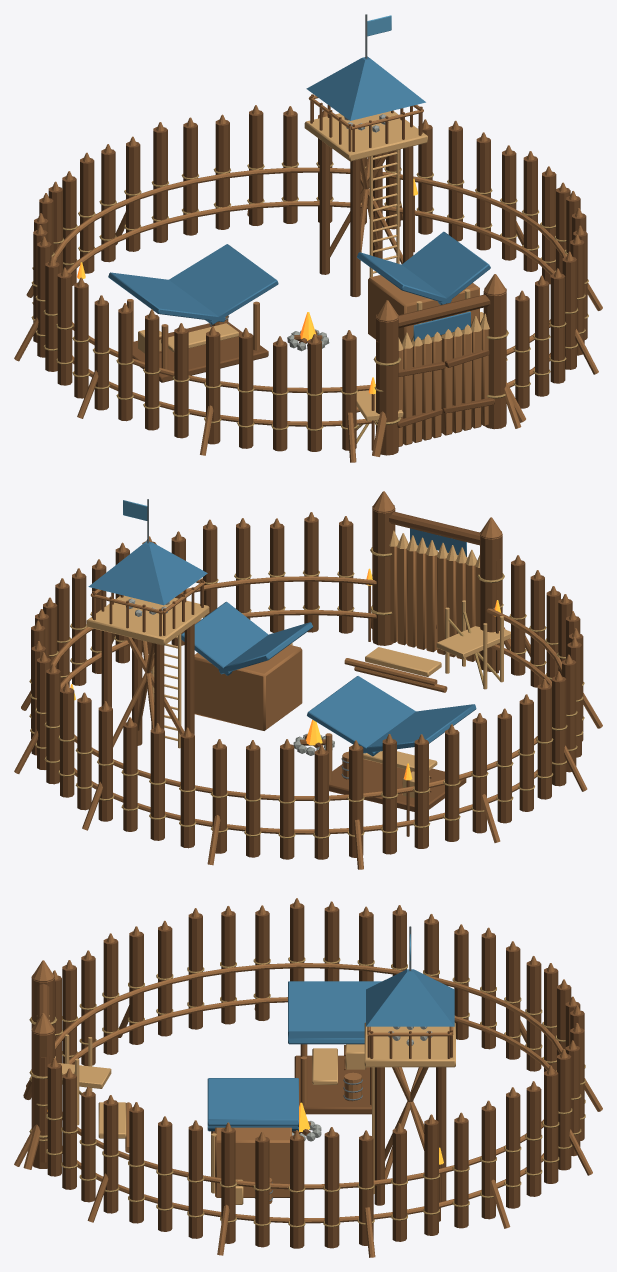
The model's file is fort_stage_3.glb.
3 renders of one model, top to bottom at view 1: azimuth 30°, elevation 25°; view 2: azimuth 150°, elevation 25°; view 3: azimuth 270°, elevation 25°, orthographic.
Parts seen in each view (by area): view 1: WorkshopRoofRight, TowerRoof, StorehouseRoofRight, TowerPlatform, GateReinforcedPost_-1, WorkshopRoofLeft, GateReinforcedPost_1, StorehouseBody, WorkshopFloor, PalisadePost_34_Body, PalisadePost_03_Body, PalisadePost_38_Body (+50 smaller); view 2: StorehouseBody, WorkshopRoofRight, TowerRoof, TowerPlatform, StorehouseRoofRight, GateReinforcedPost_1, WorkshopRoofLeft, WorkshopFloor, GateReinforcedPost_-1, PalisadePost_26_Body, PalisadePost_35_Body, PalisadePost_29_Body (+53 smaller); view 3: TowerRoof, WorkshopRoofLeft, StorehouseRoofLeft, StorehouseBody, TowerPlatform, WorkshopFloor, PalisadePost_11_Body, GateReinforcedPost_1, PalisadePost_18_Body, PalisadePost_05_Body, PalisadePost_02_Body, PalisadePost_04_Body (+47 smaller).
Part boxes in pixels (left/top/right/bottom): WorkshopRoofRight: left=169, top=244, right=278, bottom=324; TowerRoof: left=306, top=56, right=425, bottom=120; StorehouseRoofRight: left=402, top=231, right=490, bottom=304; TowerPlatform: left=304, top=111, right=427, bottom=161; GateReinforcedPost_-1: left=376, top=314, right=398, bottom=455; WorkshopRoofLeft: left=108, top=272, right=225, bottom=322; GateReinforcedPost_1: left=483, top=288, right=506, bottom=429; StorehouseBody: left=368, top=275, right=479, bottom=342; WorkshopFloor: left=132, top=322, right=268, bottom=382; PalisadePost_34_Body: left=57, top=272, right=72, bottom=385; PalisadePost_03_Body: left=550, top=273, right=565, bottom=383; PalisadePost_38_Body: left=145, top=314, right=159, bottom=430; StorehouseBody: left=194, top=645, right=302, bottom=730; WorkshopRoofRight: left=307, top=676, right=415, bottom=756; TowerRoof: left=88, top=541, right=207, bottom=605; TowerPlatform: left=86, top=595, right=209, bottom=645; StorehouseRoofRight: left=181, top=601, right=268, bottom=675; GateReinforcedPost_1: left=372, top=505, right=395, bottom=645; WorkshopRoofLeft: left=363, top=704, right=476, bottom=753; WorkshopFloor: left=329, top=759, right=466, bottom=811; GateReinforcedPost_-1: left=480, top=531, right=502, bottom=671; PalisadePost_26_Body: left=280, top=744, right=294, bottom=859; PalisadePost_35_Body: left=537, top=684, right=551, bottom=799; PalisadePost_29_Body: left=382, top=739, right=396, bottom=854; TowerRoof: left=366, top=969, right=454, bottom=1026; WorkshopRoofLeft: left=288, top=981, right=381, bottom=1031; StorehouseRoofLeft: left=207, top=1078, right=298, bottom=1131; StorehouseBody: left=215, top=1127, right=291, bottom=1197; TowerPlatform: left=364, top=1022, right=455, bottom=1067; WorkshopFloor: left=294, top=1055, right=371, bottom=1114; PalisadePost_11_Body: left=324, top=1132, right=339, bottom=1248; GateReinforcedPost_1: left=31, top=1026, right=54, bottom=1168; PalisadePost_18_Body: left=526, top=1086, right=541, bottom=1196; PalisadePost_05_Body: left=129, top=1107, right=143, bottom=1223; PalisadePost_02_Body: left=62, top=1073, right=76, bottom=1189; PalisadePost_04_Body: left=103, top=1100, right=118, bottom=1213.
Bounding box in the file's own units: 22.28 × 10.98 × 22.15.
